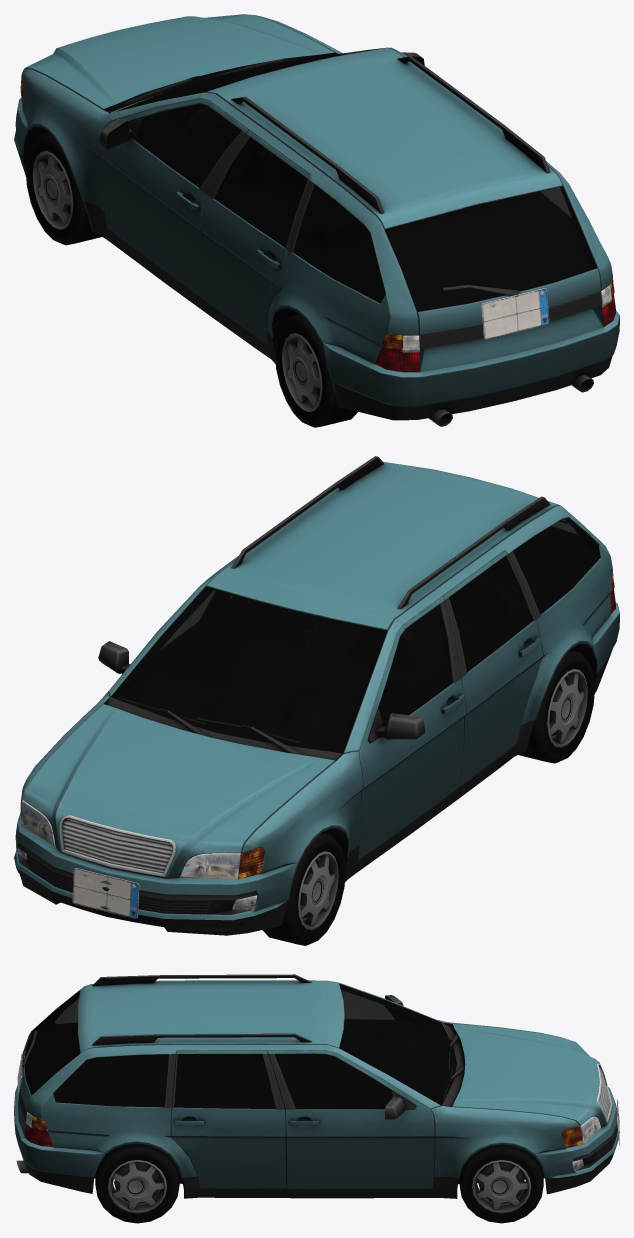
Rendered from wagon.glb.
3 views of the same model, one above another, from view 1: azimuth 30°, elevation 25°; view 2: azimuth 150°, elevation 25°; view 3: azimuth 270°, elevation 25° (orthographic). The views are drawn at different scales.
Visible parts, largest first — view 1: Wagon Body_Body_0, Wagon Body_Glass_0, Tire_RL_0, Tire_FL_0, LicensePlate_Rear, Wagon Body_Optics_0; view 2: Wagon Body_Body_0, Wagon Body_Glass_0, Tire_FL_0, Tire_RL_0, Wagon Body_Optics_0, LicensePlate_Front; view 3: Wagon Body_Body_0, Wagon Body_Glass_0, Tire_RR_0, Tire_FR_0, Wagon Body_Optics_0.
Boxes of the visible parts, box(x1,y1,x2,y2) form: Wagon Body_Body_0: box(14, 14, 619, 426); Wagon Body_Glass_0: box(111, 47, 597, 311); Tire_RL_0: box(274, 314, 357, 427); Tire_FL_0: box(25, 132, 101, 245); LicensePlate_Rear: box(481, 288, 549, 339); Wagon Body_Optics_0: box(20, 74, 615, 372); Wagon Body_Body_0: box(14, 456, 619, 935); Wagon Body_Glass_0: box(111, 518, 600, 753); Tire_FL_0: box(262, 833, 345, 945); Tire_RL_0: box(518, 650, 594, 763); Wagon Body_Optics_0: box(16, 573, 615, 910); LicensePlate_Front: box(72, 868, 139, 918); Wagon Body_Body_0: box(14, 974, 619, 1198); Wagon Body_Glass_0: box(24, 983, 456, 1109); Tire_RR_0: box(95, 1143, 179, 1223); Tire_FR_0: box(459, 1144, 543, 1223); Wagon Body_Optics_0: box(24, 1112, 601, 1170).
Bounding box in the file's own units: 1.95 × 1.38 × 4.38.
6 materials, 4 textured.
